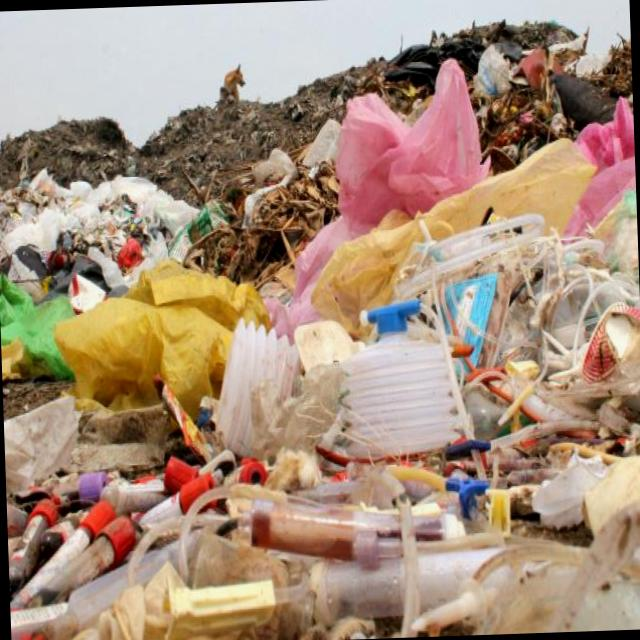garbage: (0, 14, 640, 640)
